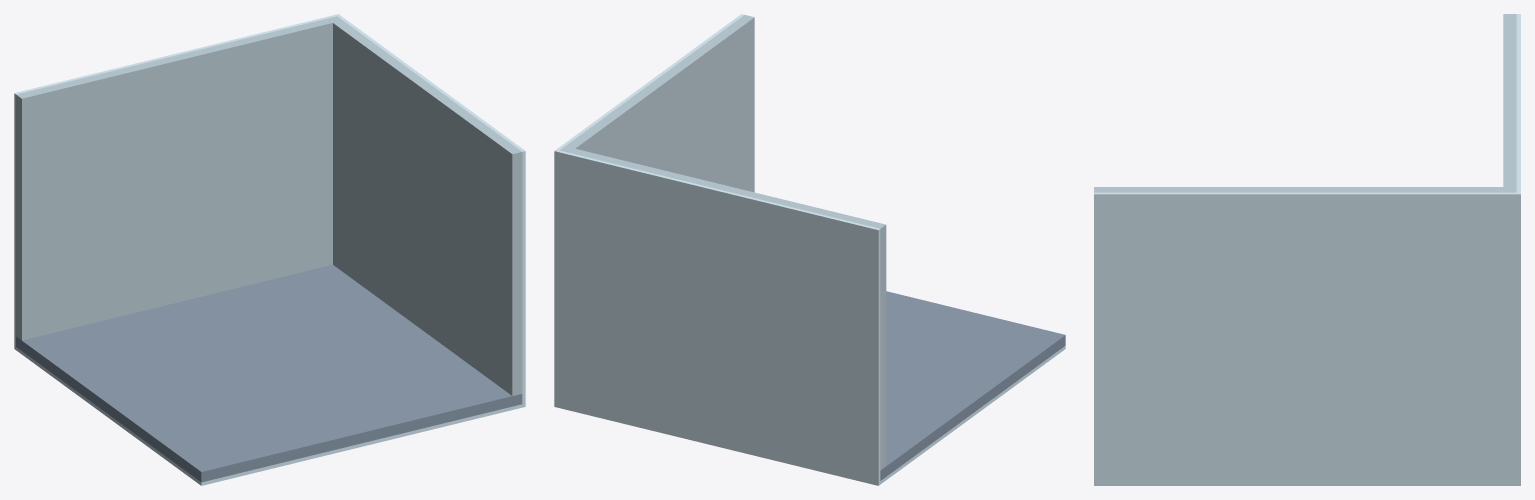
The model's file is room2.glb.
3 views of the same model, side by side, from view 1: azimuth 30°, elevation 25°; view 2: azimuth 150°, elevation 25°; view 3: azimuth 270°, elevation 25° (orthographic). The views are drawn at different scales.
Parts seen in each view (by area): view 1: room2; view 2: room2; view 3: room2.
Boxes of the visible parts, x1,y1,x2,y2 form: room2: (14, 14, 525, 485); room2: (554, 14, 1065, 485); room2: (1094, 14, 1520, 485).
Size of the model in its own units: 3.65 by 2.75 by 3.65.
